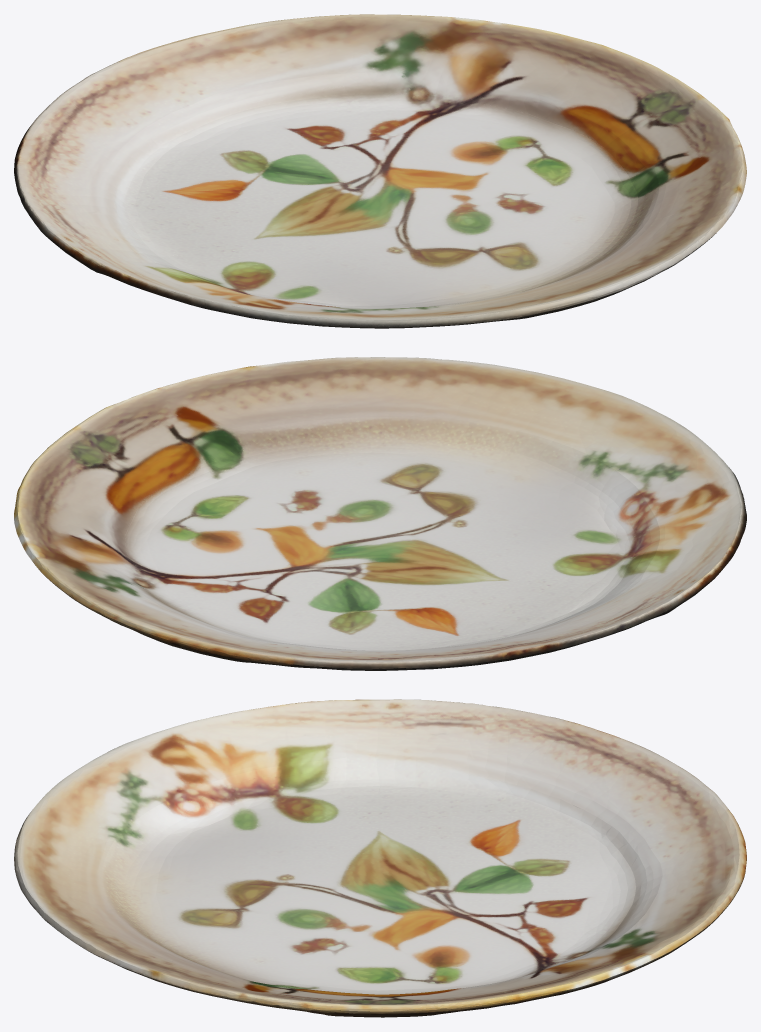
File: porcelain-dessert-plate-rustic.jpeg.glb
The picture shows the model from 3 angles, top to bottom: view 1: azimuth 30°, elevation 25°; view 2: azimuth 150°, elevation 25°; view 3: azimuth 270°, elevation 25°; orthographic projection.
Parts seen in each view (by area): view 1: world; view 2: world; view 3: world.
Boxes of the visible parts, bbox=[...] form: world: bbox=[14, 14, 746, 328]; world: bbox=[14, 357, 746, 670]; world: bbox=[14, 699, 746, 1017].
Bounding box in the file's own units: 1 × 0.0757 × 1.
1 material, 1 textured.
